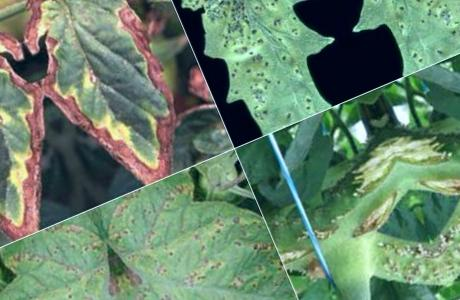Tomato leaf bacterial spot: (11, 0, 223, 201), (96, 161, 309, 300), (156, 0, 359, 143)
